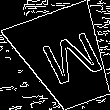M_SE: (28, 26, 103, 91)
